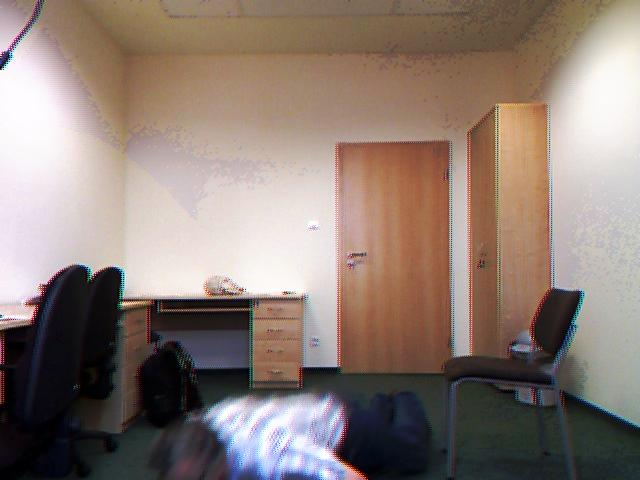fall: (132, 375, 451, 480)
